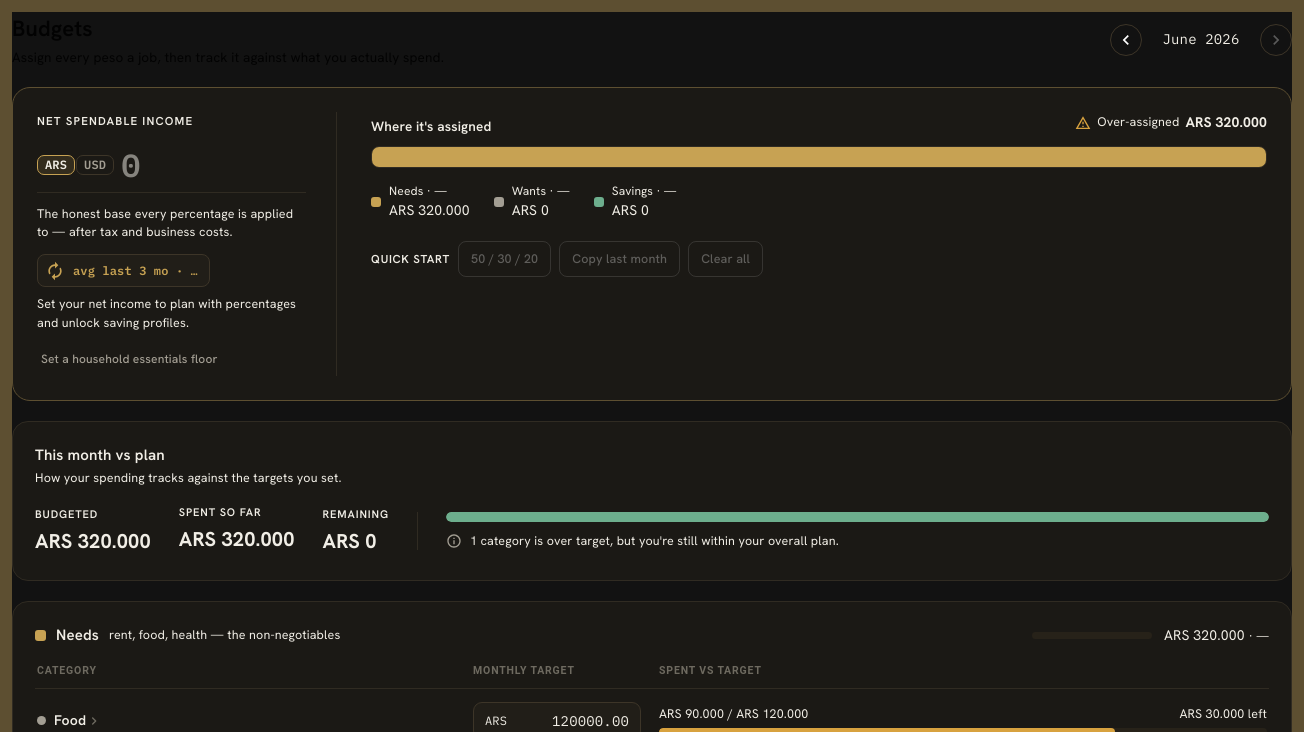
Test: BudgetsPage › stepping the month navigator shows the new month targets without a stale draft
The width and height of the screenshot is (1304, 732).
Expected: the text "Food" is shown, [54, 710, 86, 731]
Expected: the field named "Food target" holds "120000.00", [515, 710, 629, 731]
// Step to the previous month via the stepper's Previous-month button.
Click the button named "Previous month".
click(1126, 40)  # box [1110, 24, 1142, 56]
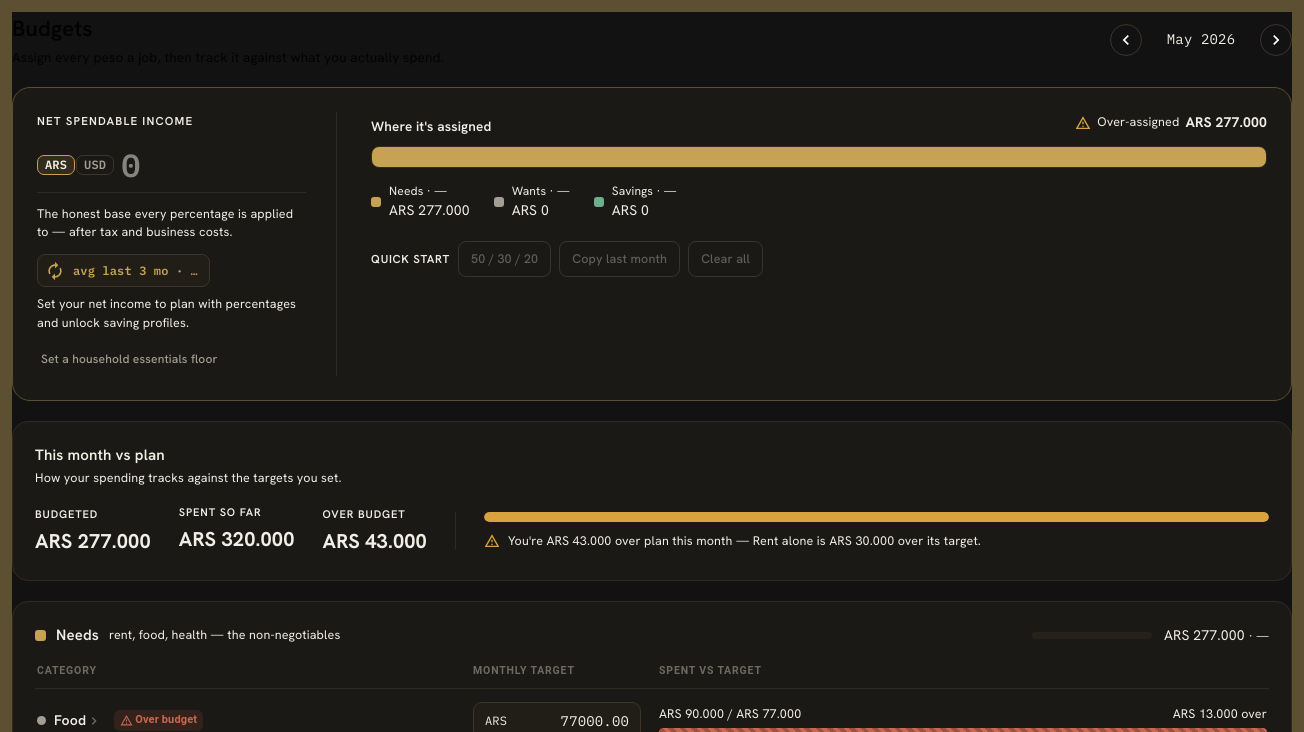
Now the field named "Food target" holds "77000.00", box [515, 710, 629, 731]
